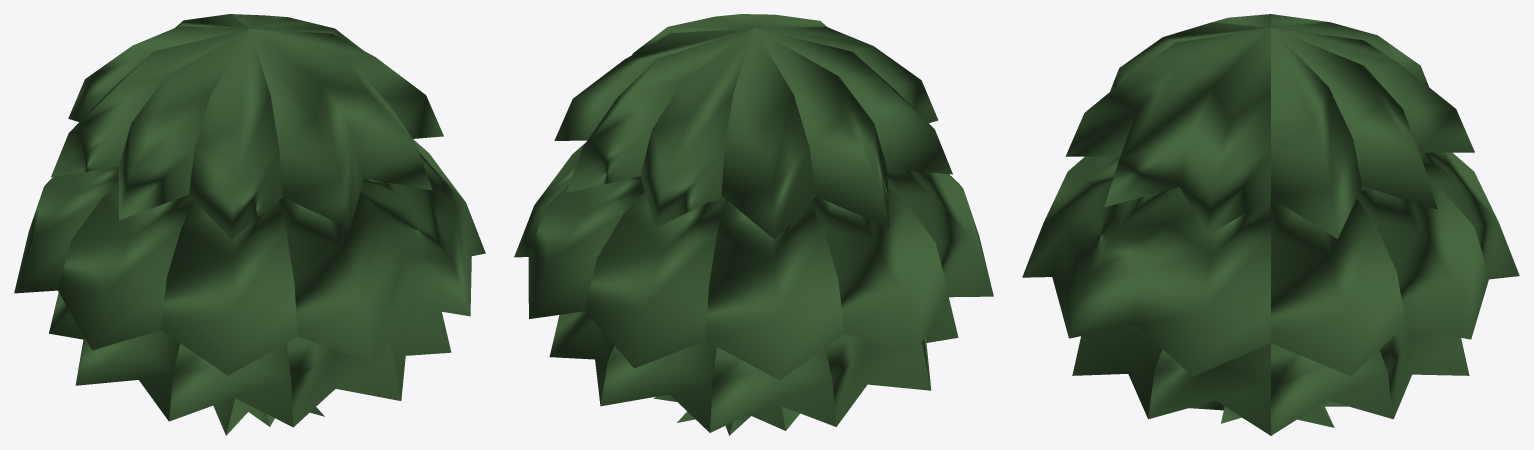
The model's file is bush.fbx.
3 renders of one model, left to right at view 1: azimuth 30°, elevation 25°; view 2: azimuth 150°, elevation 25°; view 3: azimuth 270°, elevation 25°, orthographic. The views are drawn at different scales.
Visible parts, largest first — view 1: pCylinder4.001; view 2: pCylinder4.001; view 3: pCylinder4.001.
Boxes of the visible parts, box(x1,y1,x2,y2) form: pCylinder4.001: box(14, 14, 485, 435); pCylinder4.001: box(514, 14, 993, 435); pCylinder4.001: box(1022, 14, 1519, 435).
Size of the model in its own units: 975 by 846 by 1042.
